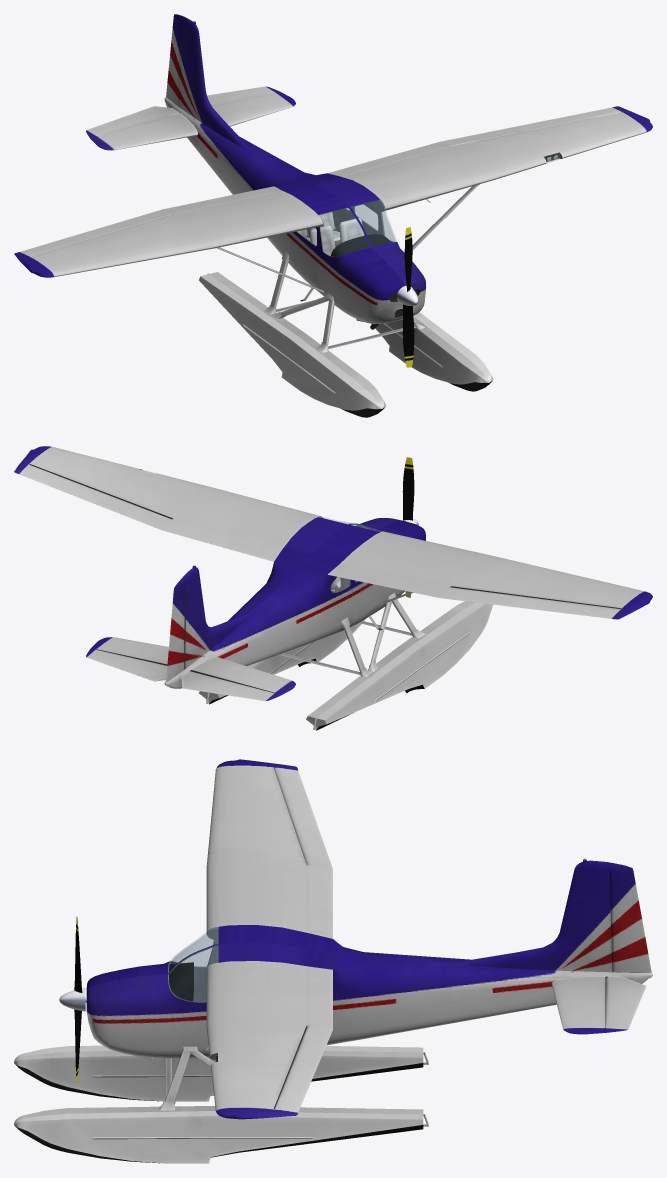
The model's file is floatplane.glb.
3 renders of one model, top to bottom at view 1: azimuth 30°, elevation 25°; view 2: azimuth 150°, elevation 25°; view 3: azimuth 270°, elevation 25°, orthographic. The views are drawn at different scales.
Visible parts, largest first — view 1: BODY, ELEV, PROP0, AIL_L, AIL_R, RUD; view 2: BODY, ELEV, AIL_L, AIL_R, RUD, PROP0; view 3: BODY, RUD, AIL_R, AIL_L, ELEV, PROP0.
Boxes of the visible parts, left/top/right/bottom form: BODY: left=14, top=14, right=652, bottom=417; ELEV: left=87, top=86, right=274, bottom=135; PROP0: left=397, top=227, right=418, bottom=367; AIL_L: left=439, top=107, right=620, bottom=146; AIL_R: left=20, top=209, right=171, bottom=256; RUD: left=166, top=16, right=181, bottom=107; BODY: left=14, top=446, right=652, bottom=730; ELEV: left=87, top=649, right=274, bottom=700; AIL_L: left=20, top=465, right=171, bottom=529; AIL_R: left=439, top=587, right=620, bottom=618; RUD: left=166, top=584, right=184, bottom=682; PROP0: left=402, top=457, right=418, bottom=597; BODY: left=14, top=759, right=652, bottom=1163; RUD: left=609, top=870, right=651, bottom=972; AIL_R: left=274, top=768, right=332, bottom=869; AIL_L: left=274, top=1025, right=332, bottom=1112; ELEV: left=605, top=977, right=646, bottom=1029; PROP0: left=59, top=916, right=86, bottom=1083.
Bounding box in the file's own units: 10.87 × 3.89 × 8.22.
24 materials, 23 textured.
